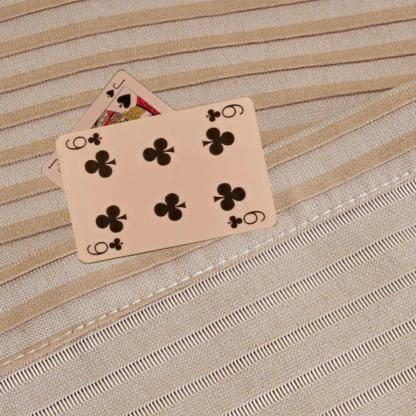6c: (203, 101, 245, 124), (84, 235, 124, 257)
Js: (104, 76, 127, 99)
